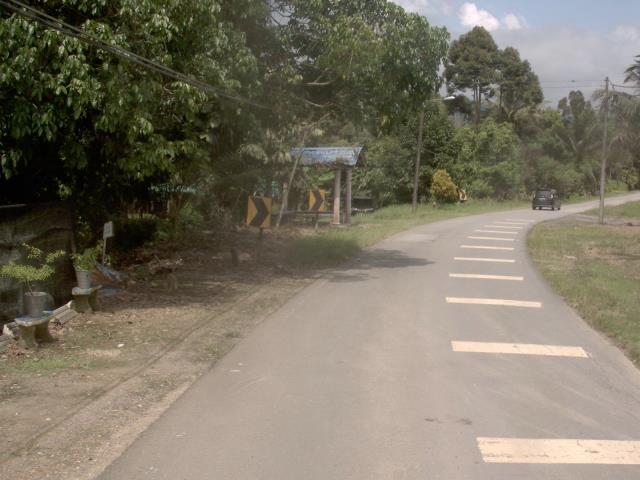traffic_sign: (239, 185, 278, 237), (304, 185, 327, 213)
